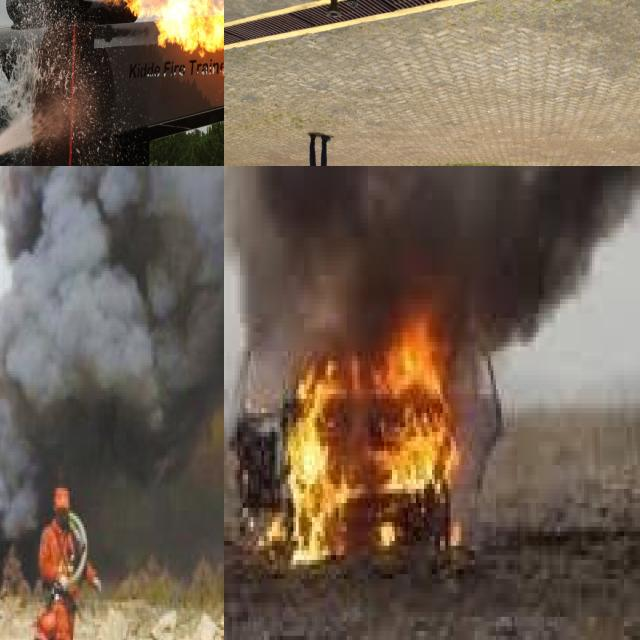fire: (267, 313, 472, 560), (122, 0, 224, 86)
smoke: (0, 166, 224, 541), (224, 166, 640, 365)
